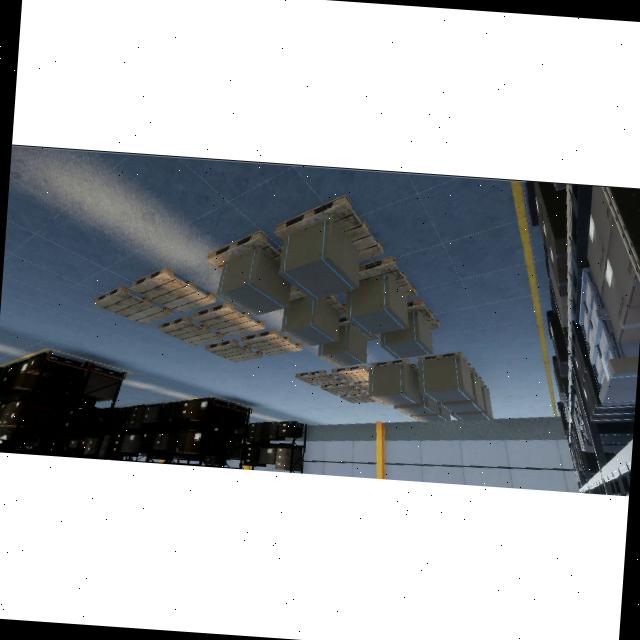wooden_pallet: (274, 195, 384, 260), (128, 267, 217, 314), (92, 285, 173, 324), (206, 230, 282, 271), (358, 254, 418, 299), (192, 302, 265, 337), (156, 315, 224, 346), (240, 328, 303, 356), (204, 338, 262, 362), (406, 298, 440, 332), (417, 352, 471, 370), (370, 357, 419, 375), (294, 369, 341, 387), (330, 365, 369, 383), (319, 381, 362, 396), (339, 392, 377, 403), (353, 380, 368, 394)
